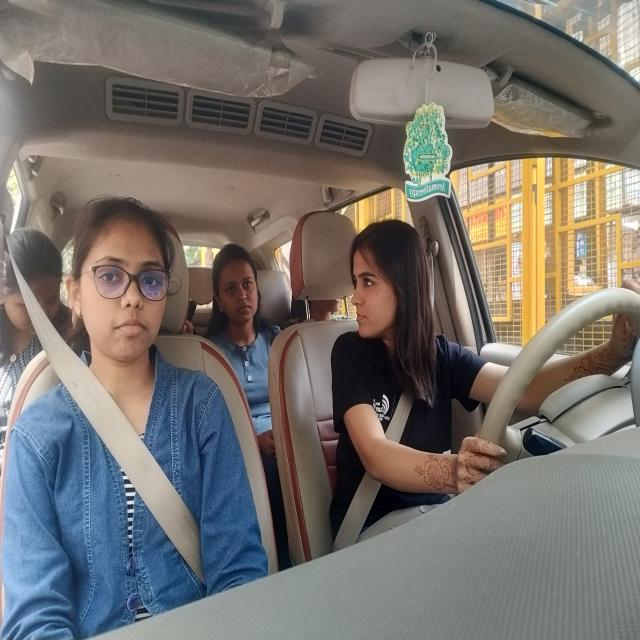LeftRight: (327, 205, 436, 407)
person: (58, 185, 182, 376), (201, 238, 279, 358), (1, 220, 68, 357)
